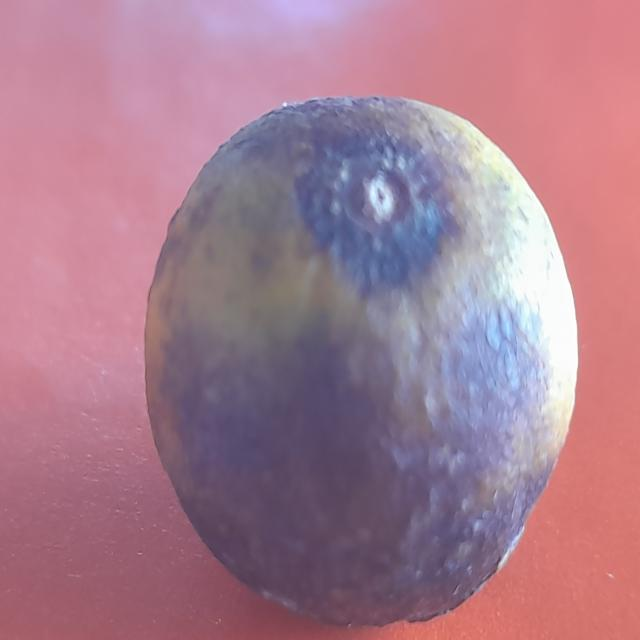black spot: (128, 86, 586, 624)
